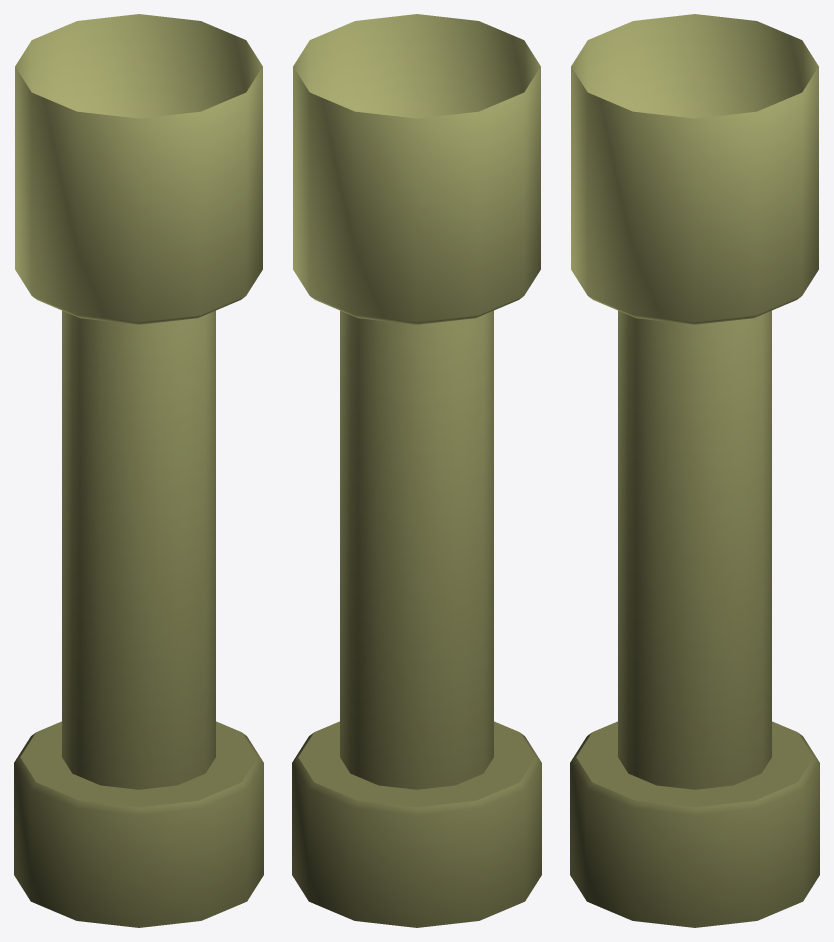
The picture shows the model from 3 angles, left to right: view 1: azimuth 30°, elevation 25°; view 2: azimuth 150°, elevation 25°; view 3: azimuth 270°, elevation 25°; orthographic projection.
Visible parts, largest first — view 1: Cube.023; view 2: Cube.023; view 3: Cube.023.
Part boxes in pixels (left/top/right/bottom): Cube.023: left=14, top=14, right=263, bottom=927; Cube.023: left=292, top=14, right=541, bottom=927; Cube.023: left=570, top=14, right=819, bottom=927.
Size of the model in its own units: 2 by 7.15 by 2.
